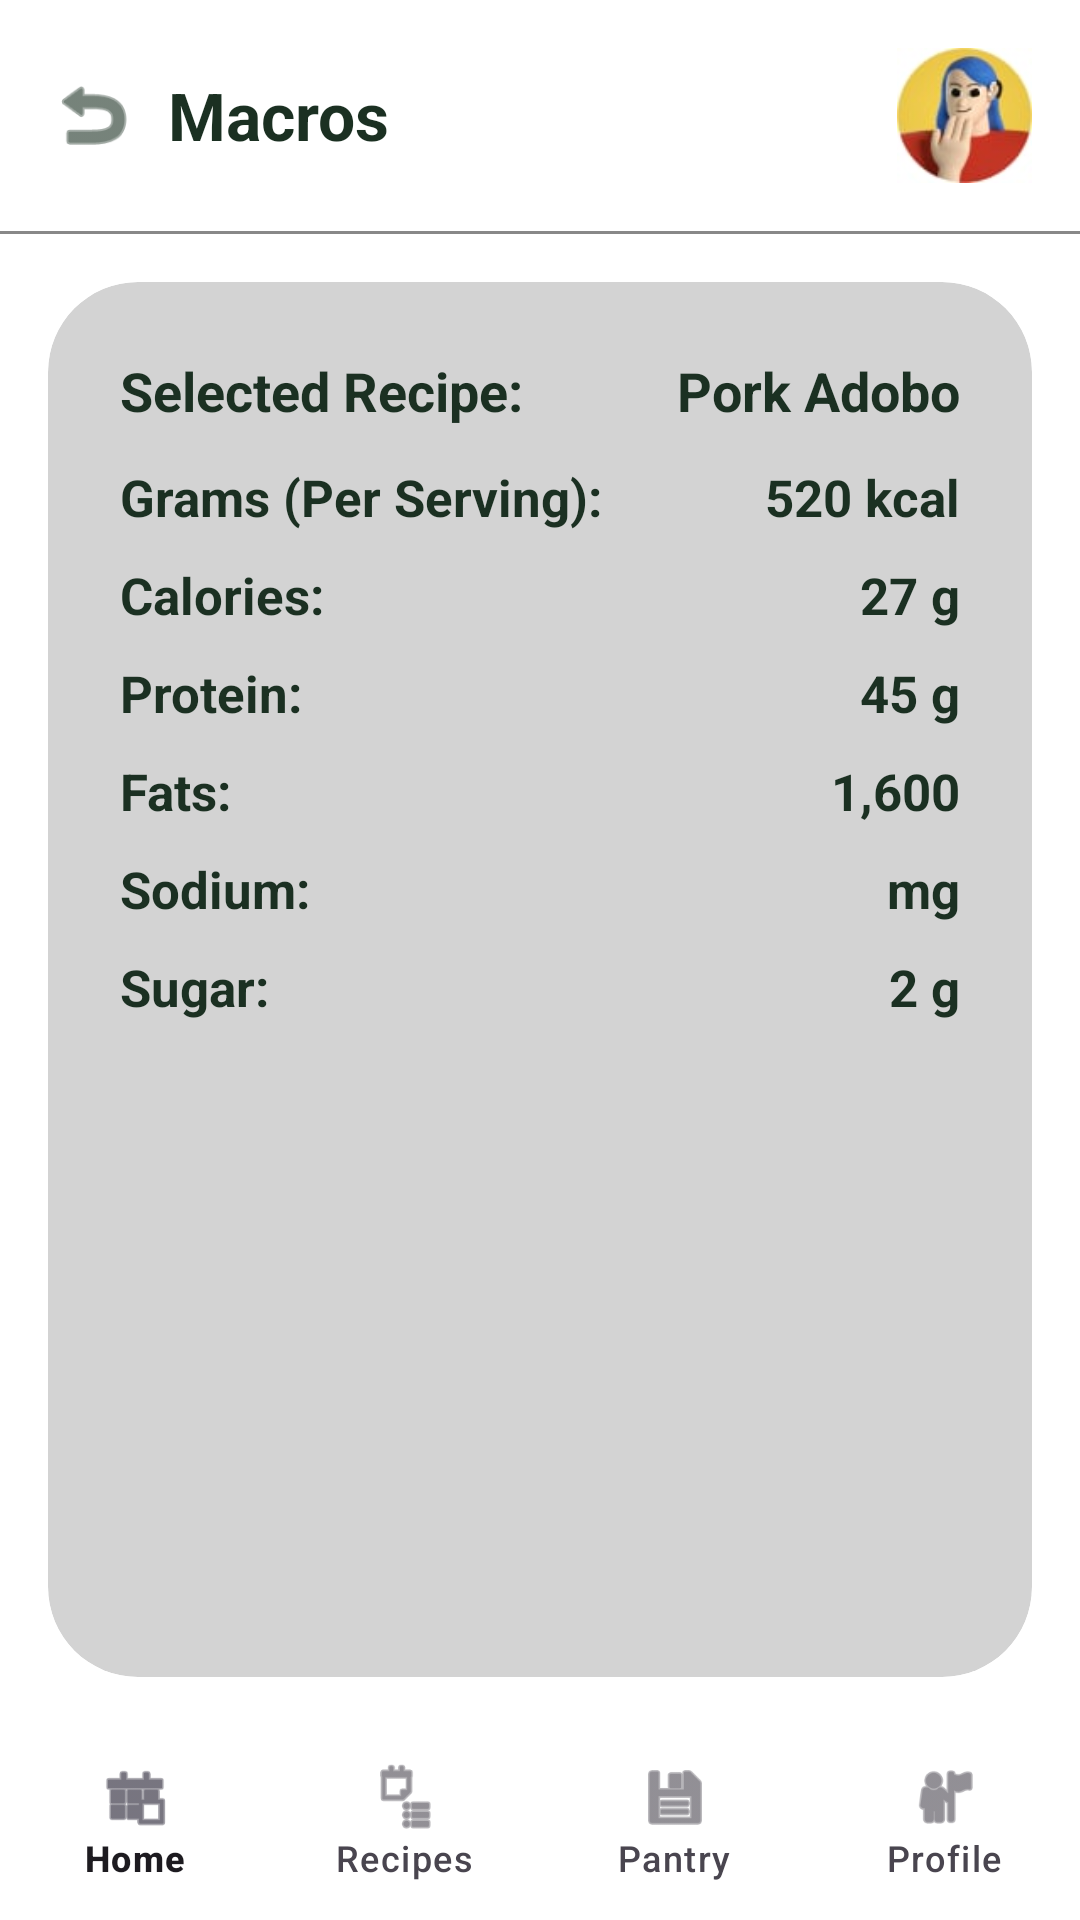

Where to tap for icons on this 1080px x 1920px app screen, as (x=x, y=y):
revert: (x=94, y=115)
